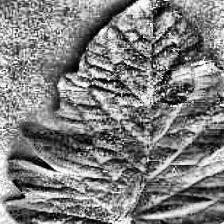disease: (3, 0, 224, 224)
